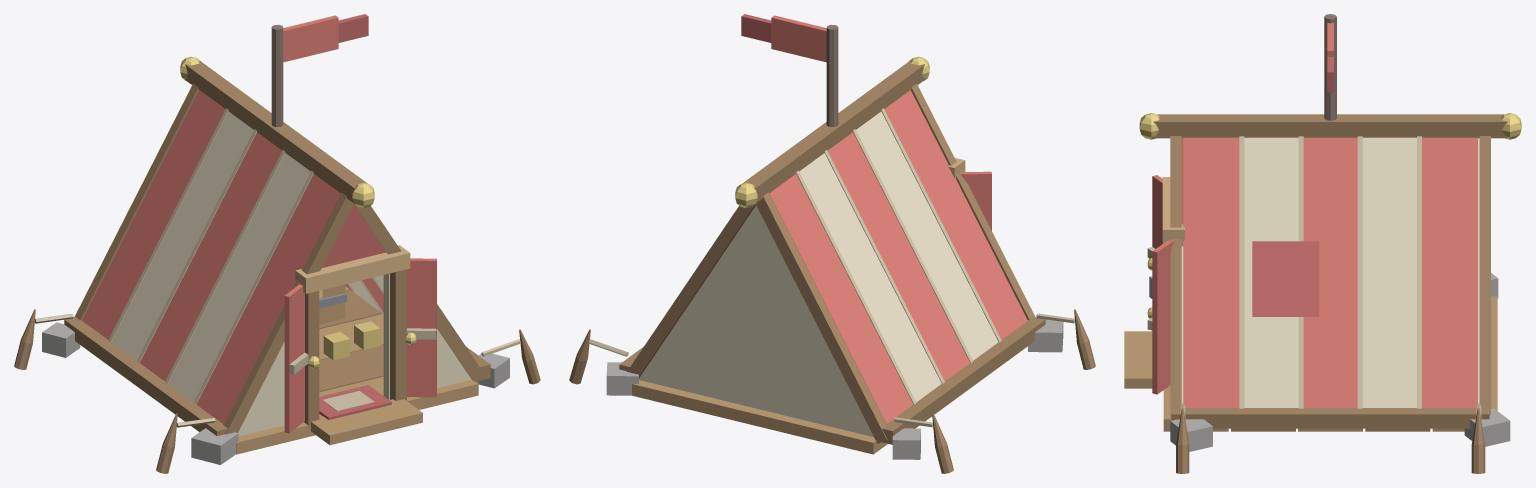
Rendered from ws_siege_tent.glb.
3 views of the same model, side by side, from view 1: azimuth 30°, elevation 25°; view 2: azimuth 150°, elevation 25°; view 3: azimuth 270°, elevation 25° (orthographic). The views are drawn at different scales.
Parts seen in each view (by area): view 1: ws_siege_tent; view 2: ws_siege_tent; view 3: ws_siege_tent.
Part boxes in pixels (bbox=[...]): ws_siege_tent: bbox=[14, 14, 540, 473]; ws_siege_tent: bbox=[569, 14, 1095, 473]; ws_siege_tent: bbox=[1124, 14, 1521, 473].
Size of the model in its own units: 2.06 by 1.79 by 1.77.
